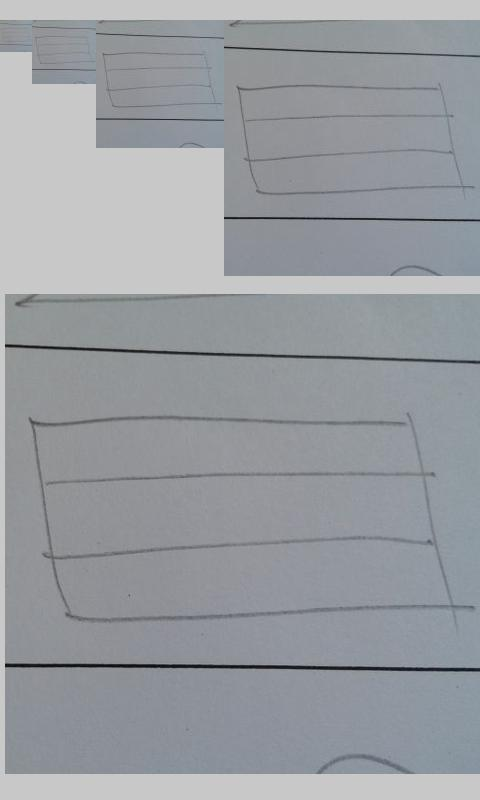list_view: (29, 413, 457, 628), (236, 83, 465, 197), (102, 51, 218, 108), (35, 35, 94, 65), (1, 27, 32, 43)
